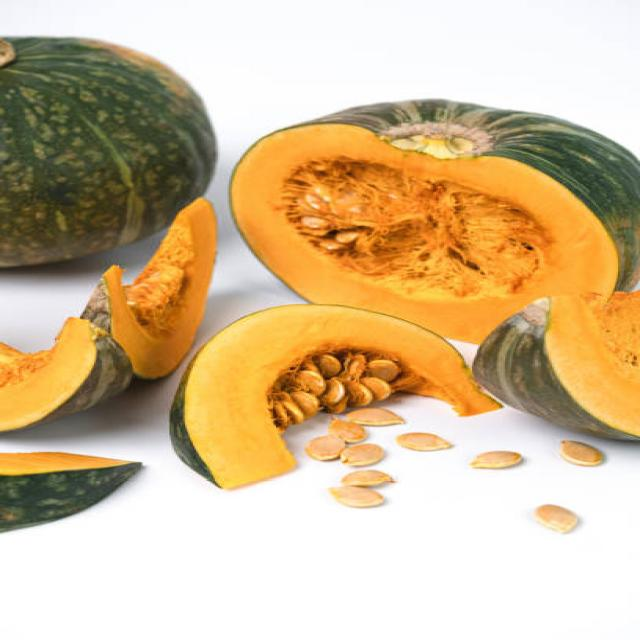Pumpkin: (232, 96, 640, 285), (171, 302, 473, 496), (0, 21, 225, 210), (479, 294, 640, 458), (95, 202, 219, 366), (0, 314, 110, 437)
